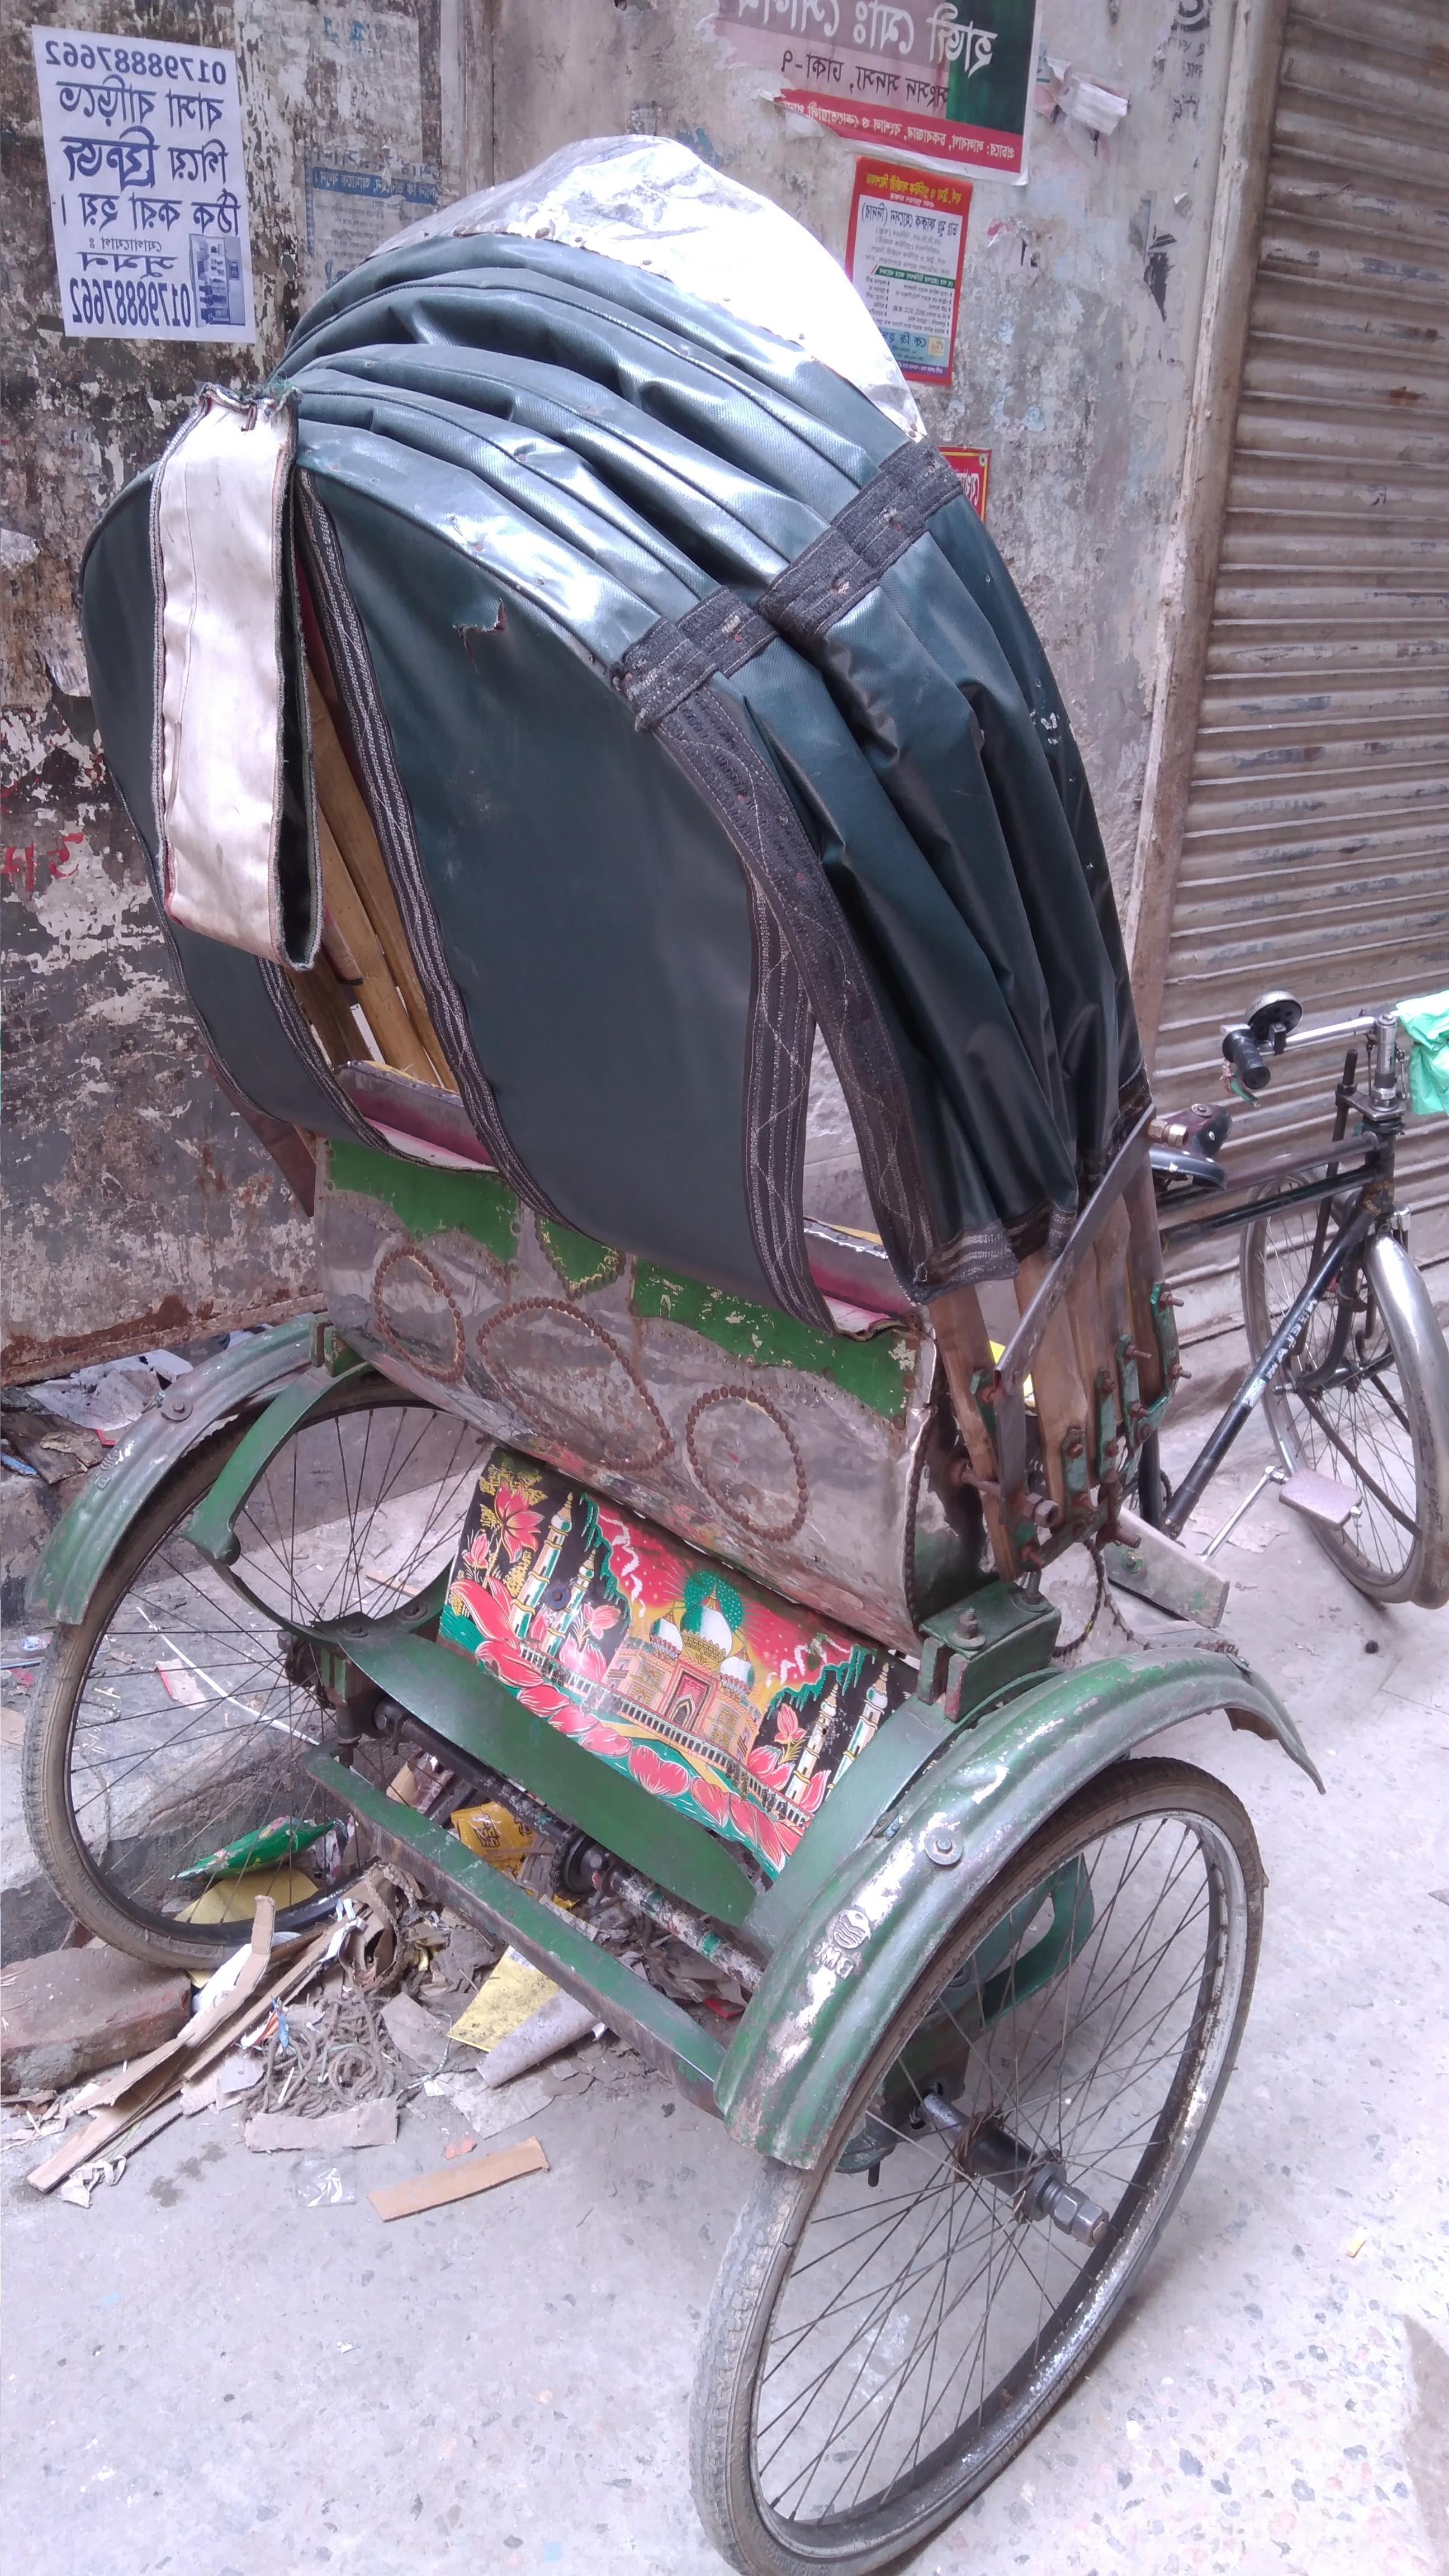Rickshaw: (58, 138, 1389, 2150)
